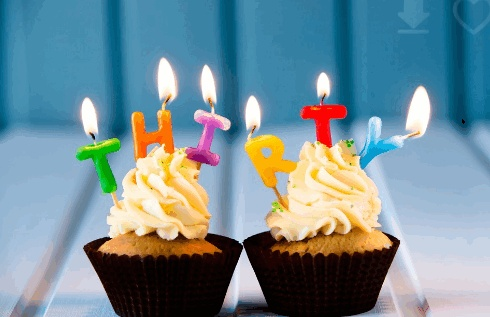fire: (405, 85, 431, 138), (155, 56, 178, 103), (199, 64, 217, 106), (80, 97, 99, 135), (244, 95, 261, 131), (314, 71, 332, 100)
